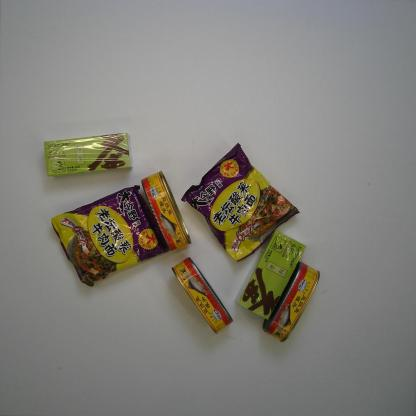Canned Food: (258, 260, 322, 344), (170, 256, 233, 334), (140, 169, 193, 254)
Instant Drink: (231, 228, 307, 323), (41, 132, 133, 178)
Instant Noodles: (180, 141, 300, 264), (48, 184, 172, 286)
